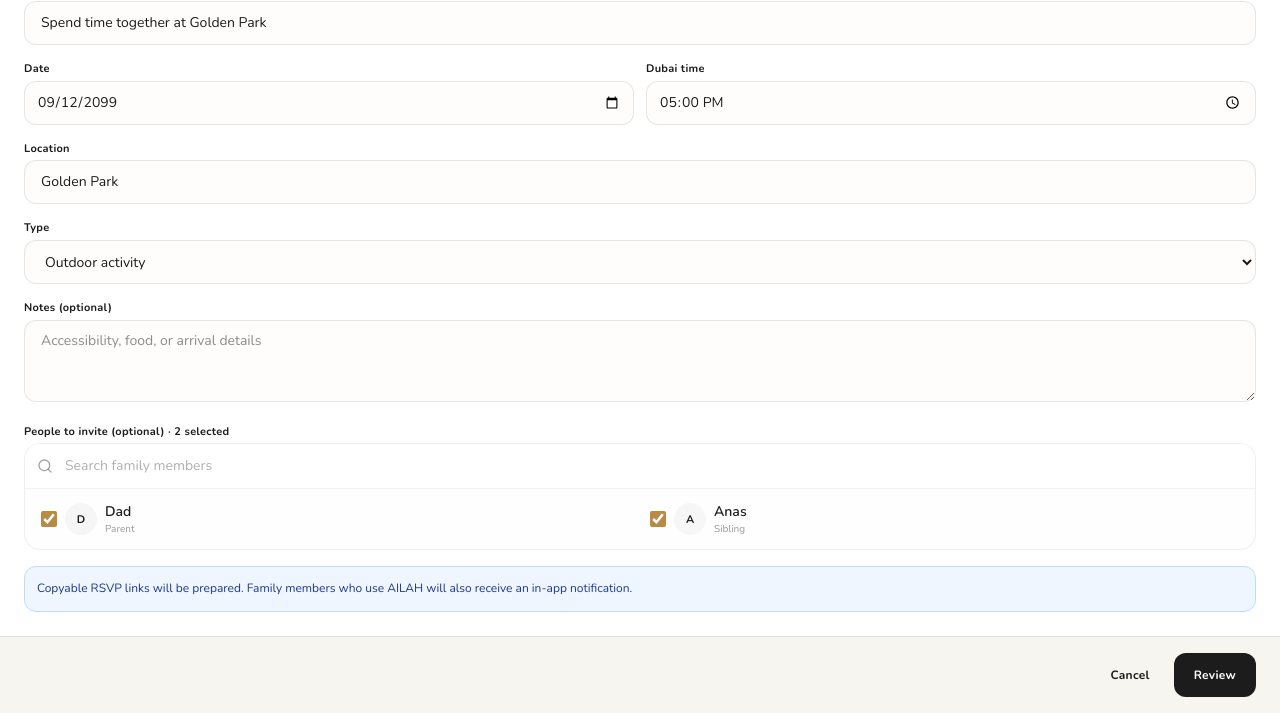
Test: GatheringPlanner › searches the bounded invitee list by family name or relationship
(page scrolled)
Type "sibling" into the search field named "Search invitees" at (640, 466), box [25,444,1255,488]
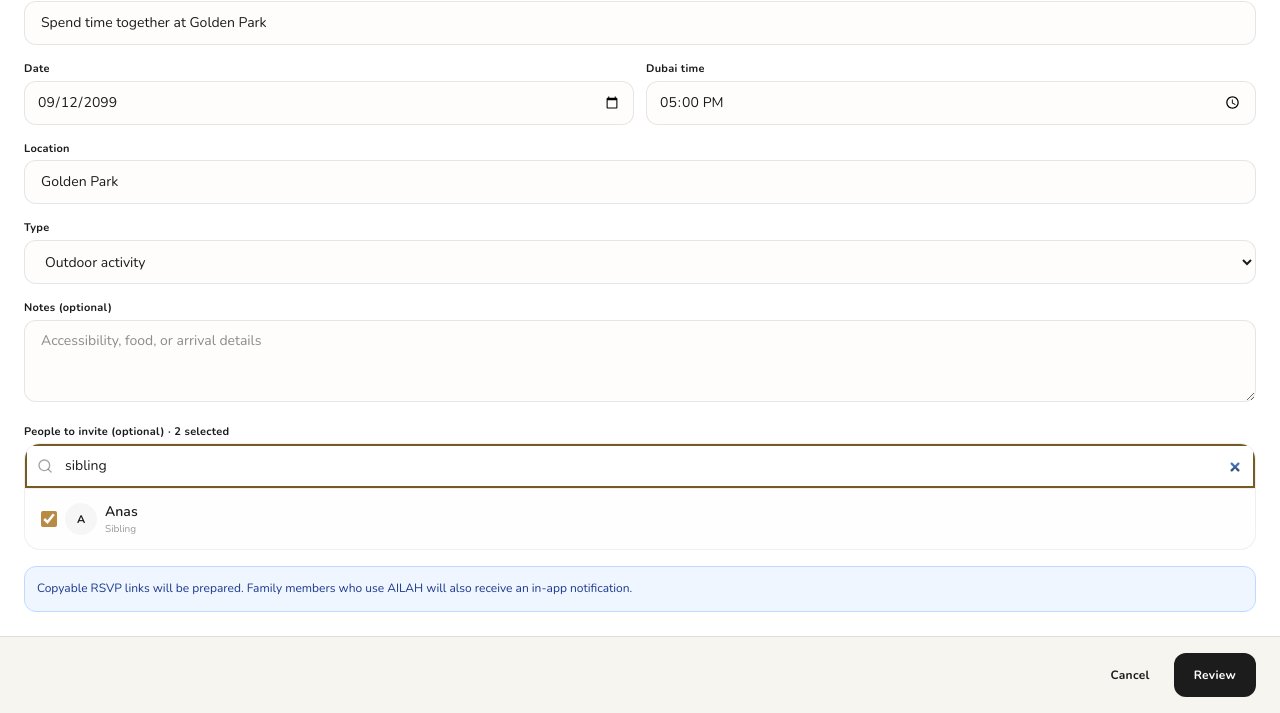
Expected: the checkbox labelled "A Anas Sibling" is shown, [41,511,57,527]
Result: the text "Dad" is gone
Replace the text in the search field named "Search invitees" with "missing relative" at (640, 466), box [25,444,1255,488]
(page scrolled)
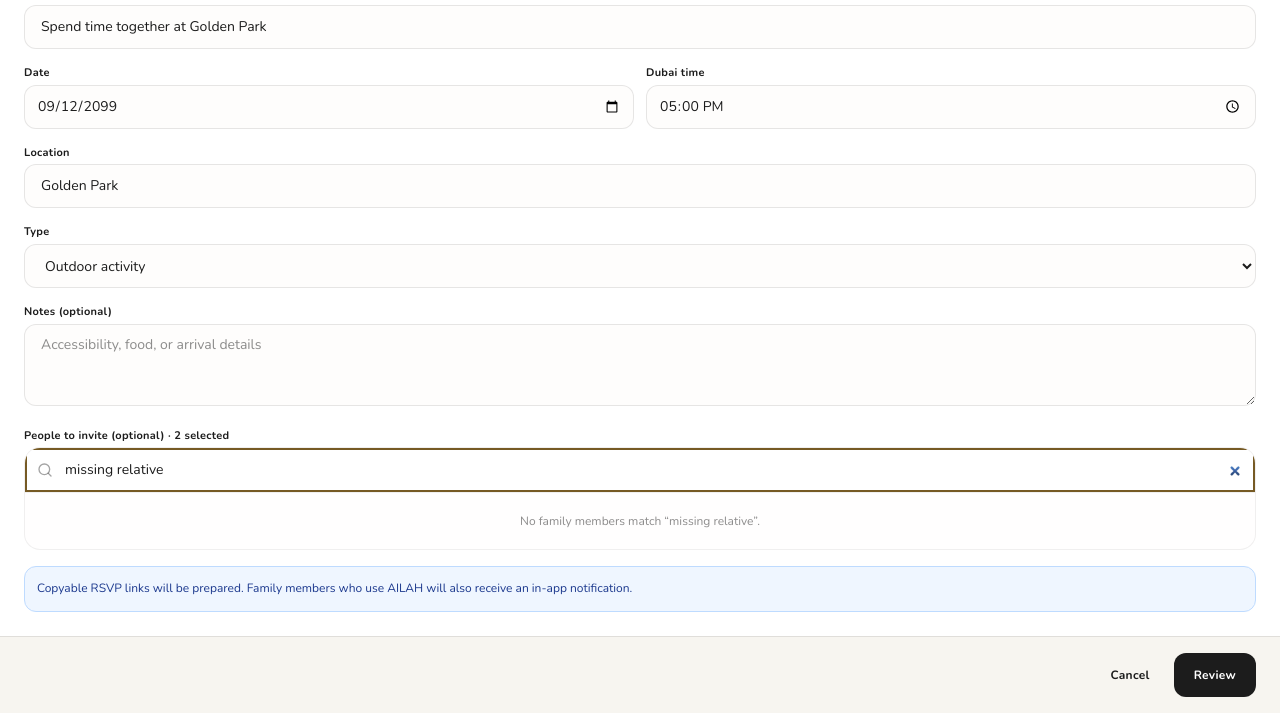
Result: the text "No family members match “missing relative”." is shown at [520,513,760,529]
